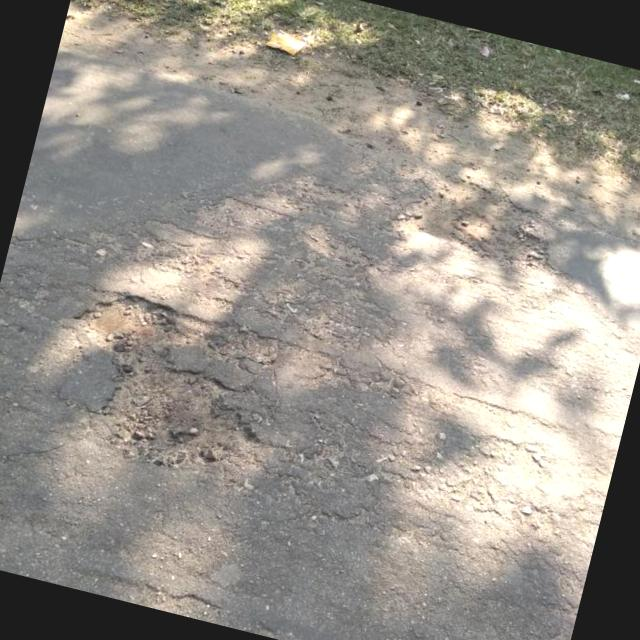pothole: (86, 346, 272, 491), (387, 162, 571, 277), (68, 278, 188, 367)
